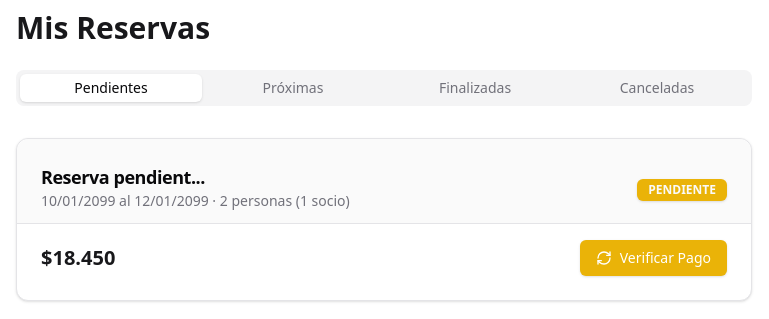
Test: Mis reservas › muestra cada reserva en su pestaña según su estado
The image size is (769, 319).
Check: the text "$18.450" is shown, box x1=41 y1=244 x2=115 y2=272
Check: the text "$7.777" is not shown
Note: Radix abre la pestaña con mouseDown
Press the mouse on the tab "Próximas" at [293, 88], box x1=202 y1=74 x2=384 y2=102
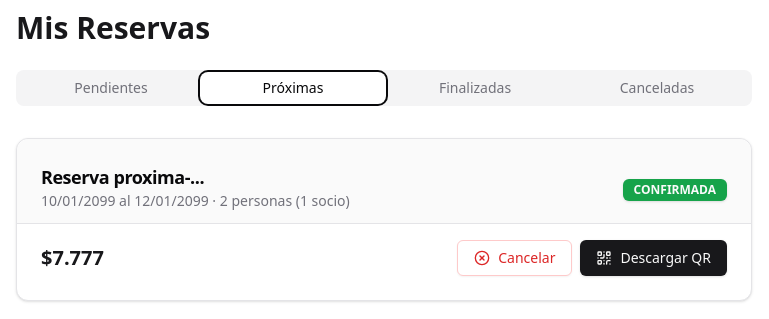
Check: the text "$7.777" is shown, box x1=41 y1=244 x2=104 y2=272
Press the mouse on the tab "Finalizadas" at [475, 88], box x1=384 y1=74 x2=566 y2=102
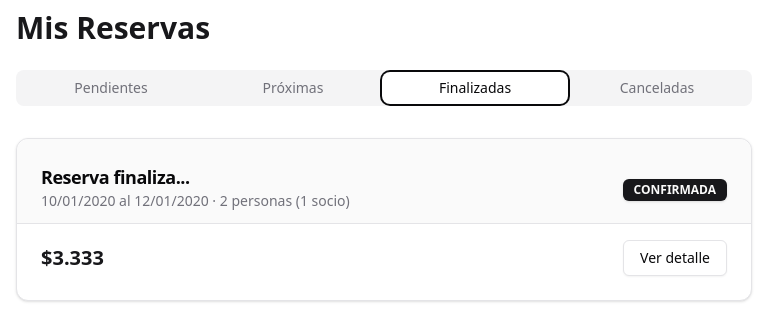
Check: the text "$3.333" is shown, box x1=41 y1=244 x2=104 y2=272
Press the mouse on the tab "Canceladas" at [657, 88], box x1=566 y1=74 x2=748 y2=102
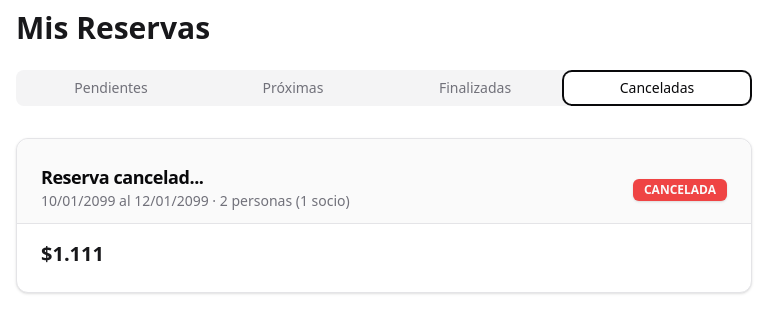
Check: the text "$1.111" is shown, box x1=41 y1=240 x2=104 y2=268
